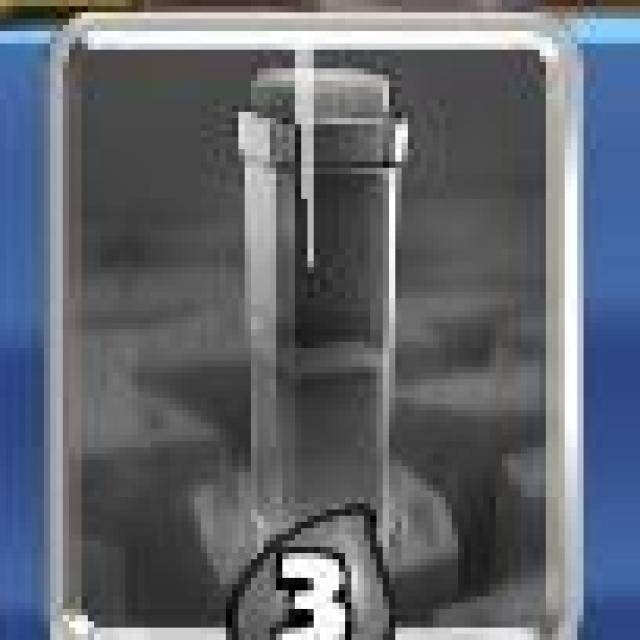Earthquake: (44, 10, 588, 634)
